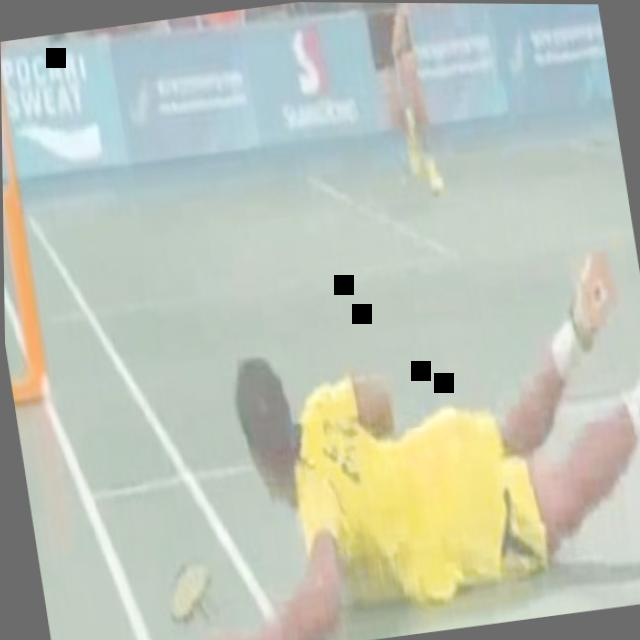Fall-Detected: (149, 215, 640, 640)
